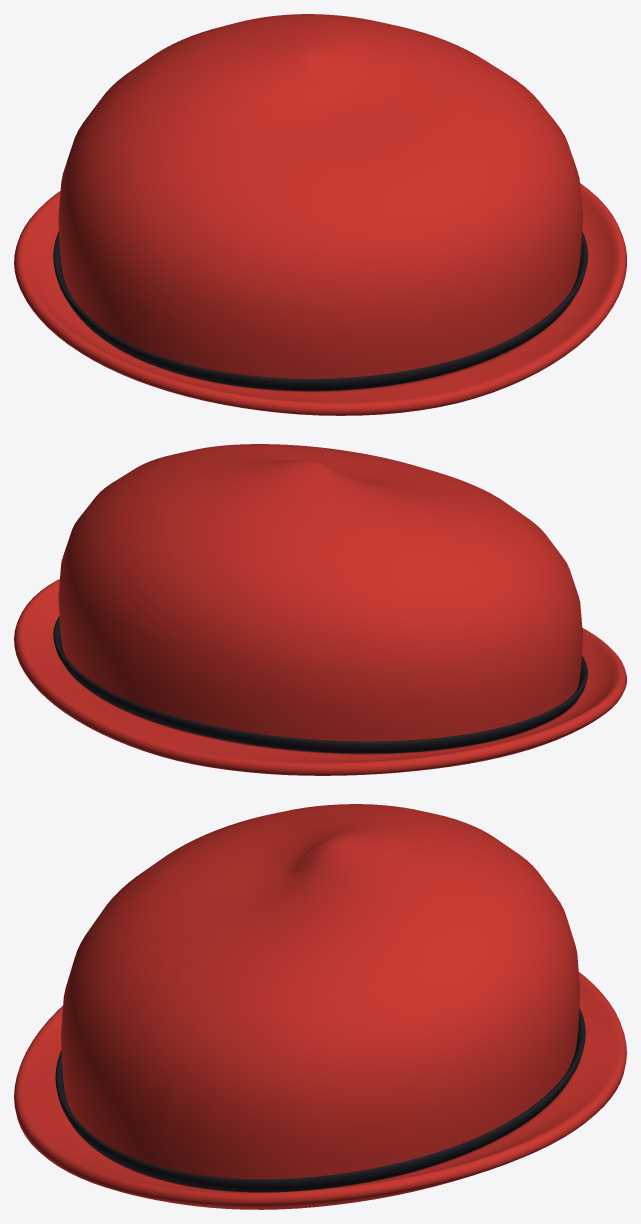
Rendered from hw_bowler.glb.
The picture shows the model from 3 angles, top to bottom: view 1: azimuth 30°, elevation 25°; view 2: azimuth 150°, elevation 25°; view 3: azimuth 270°, elevation 25°; orthographic projection. The views are drawn at different scales.
Visible parts, largest first — view 1: hw_bowler, hw_bowler_brim, hw_bowler_band; view 2: hw_bowler, hw_bowler_brim, hw_bowler_band; view 3: hw_bowler, hw_bowler_brim, hw_bowler_band.
Part boxes in pixels (left/top/right/bottom): hw_bowler: left=58, top=14, right=582, bottom=391; hw_bowler_brim: left=14, top=183, right=626, bottom=415; hw_bowler_band: left=53, top=231, right=587, bottom=391; hw_bowler: left=58, top=444, right=582, bottom=754; hw_bowler_brim: left=14, top=579, right=626, bottom=775; hw_bowler_band: left=53, top=616, right=587, bottom=753; hw_bowler: left=61, top=804, right=580, bottom=1192; hw_bowler_brim: left=14, top=972, right=626, bottom=1209; hw_bowler_band: left=55, top=1008, right=585, bottom=1192.
Bounding box in the file's own units: 0.9666 × 0.4166 × 0.8769.
